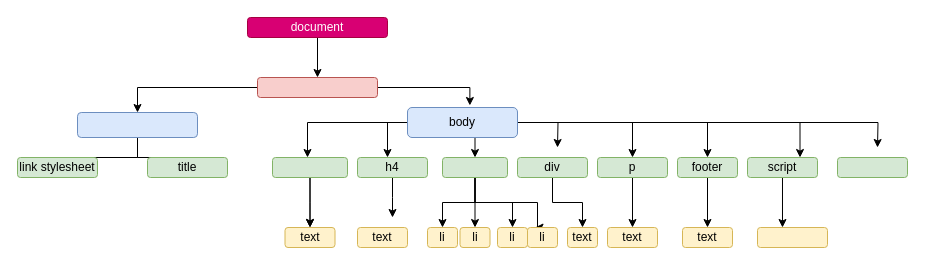
This 925x265 diagram has some shape labels left out. Each missing label, with the centre of its shape:
"h2" goes at point 310,167.
"head" goes at point 137,125.
"html" goes at point 317,87.
"img" goes at point 872,167.
"javascript" goes at point 792,237.
"ol" goes at point 475,167.
